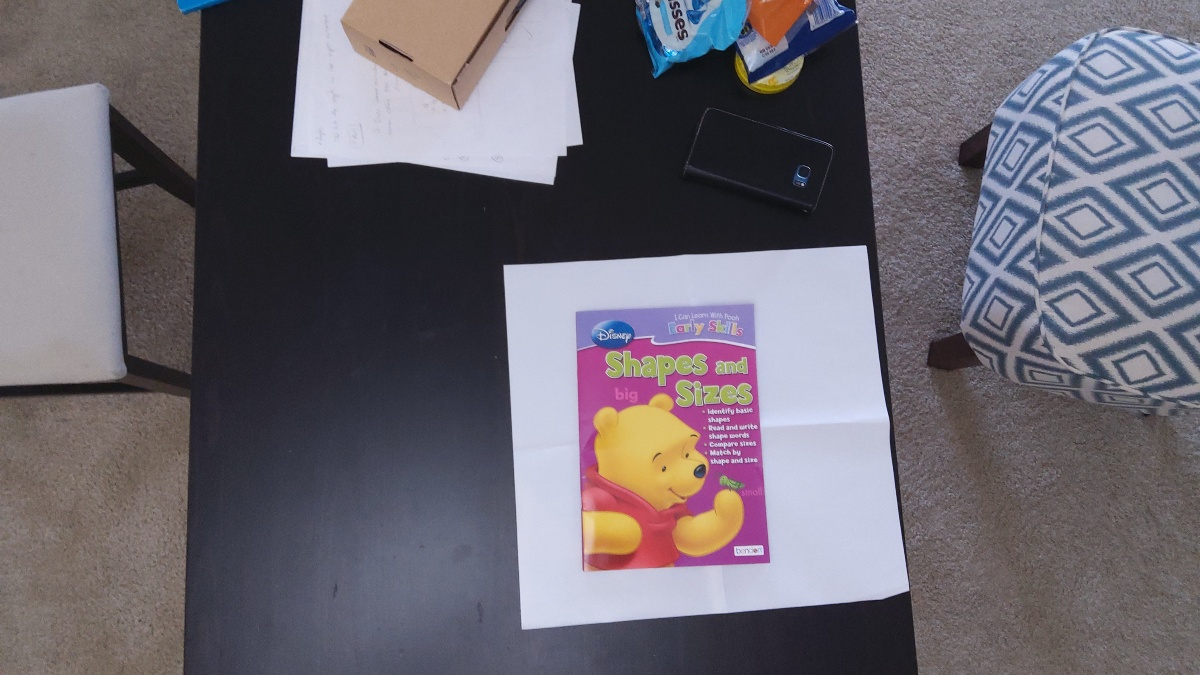book: (574, 311, 765, 565)
